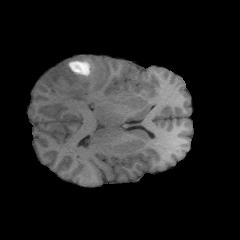glioma: (45, 57, 106, 102)
